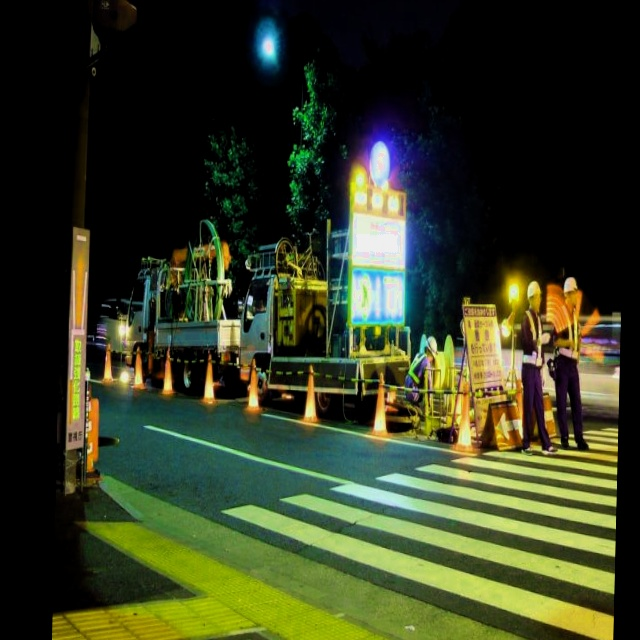Con_Casco: (526, 282, 542, 309)
Con_Chaleco: (518, 307, 546, 368), (407, 351, 430, 398)
